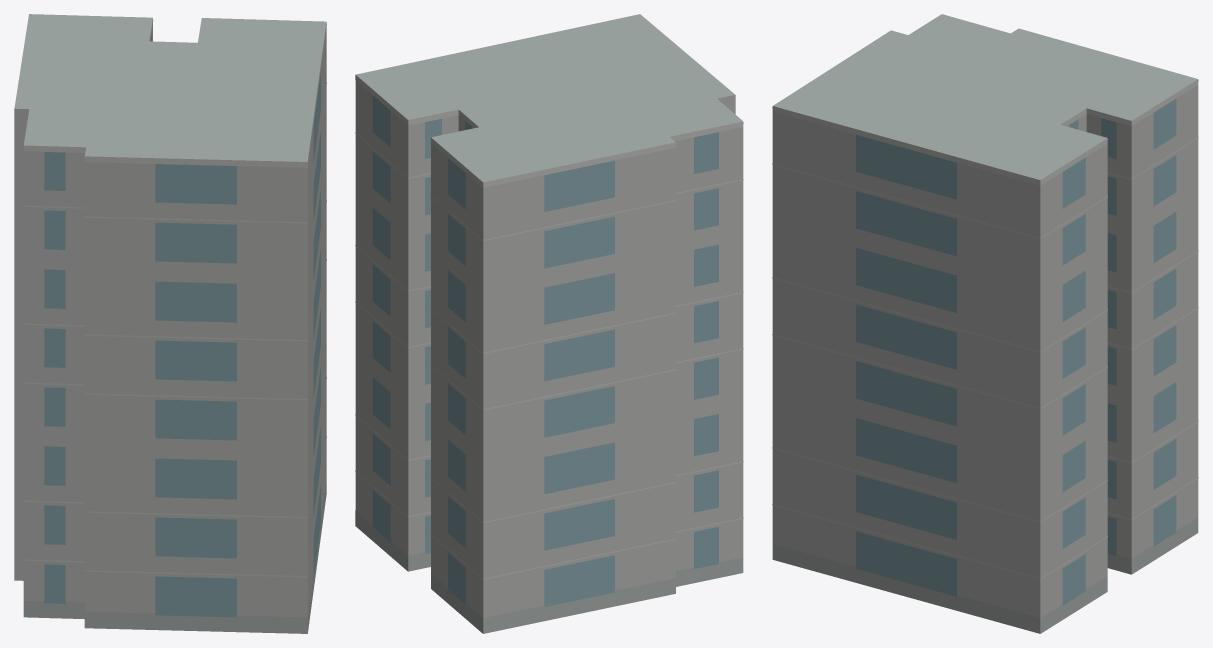
File: survey-upis-32747760.glb
3 renders of one model, left to right at view 1: azimuth 30°, elevation 25°; view 2: azimuth 150°, elevation 25°; view 3: azimuth 270°, elevation 25°, orthographic. The views are drawn at different scales.
Parts seen in each view (by area): view 1: survey-upis-32747760.tmp; view 2: survey-upis-32747760.tmp; view 3: survey-upis-32747760.tmp.
Boxes of the visible parts, x1,y1,x2,y2 form: survey-upis-32747760.tmp: (14, 14, 326, 633); survey-upis-32747760.tmp: (355, 14, 743, 633); survey-upis-32747760.tmp: (772, 14, 1198, 633).
Bounding box in the file's own units: 15.57 × 19.8 × 16.86.
